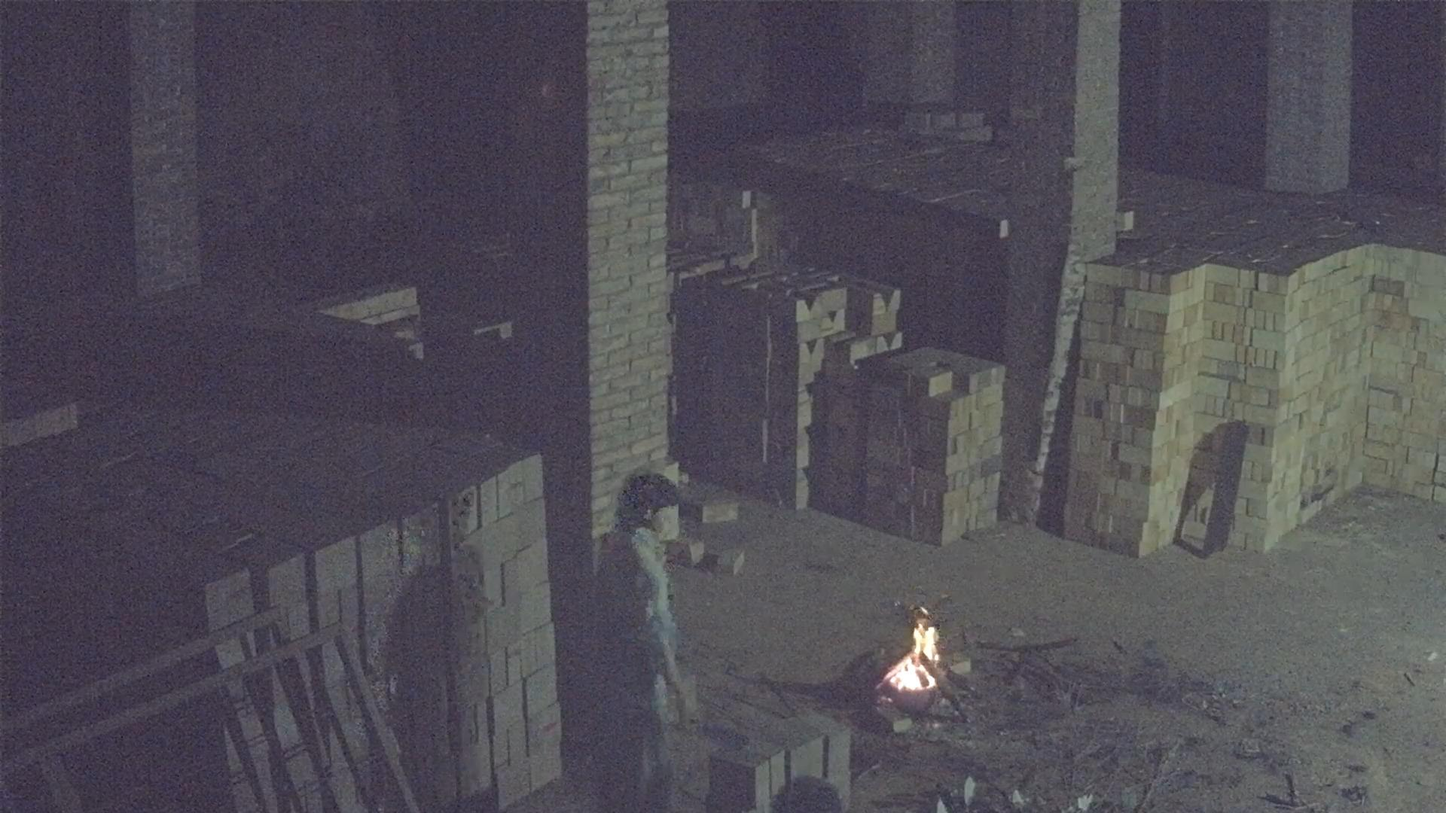fire: (883, 607, 941, 694)
